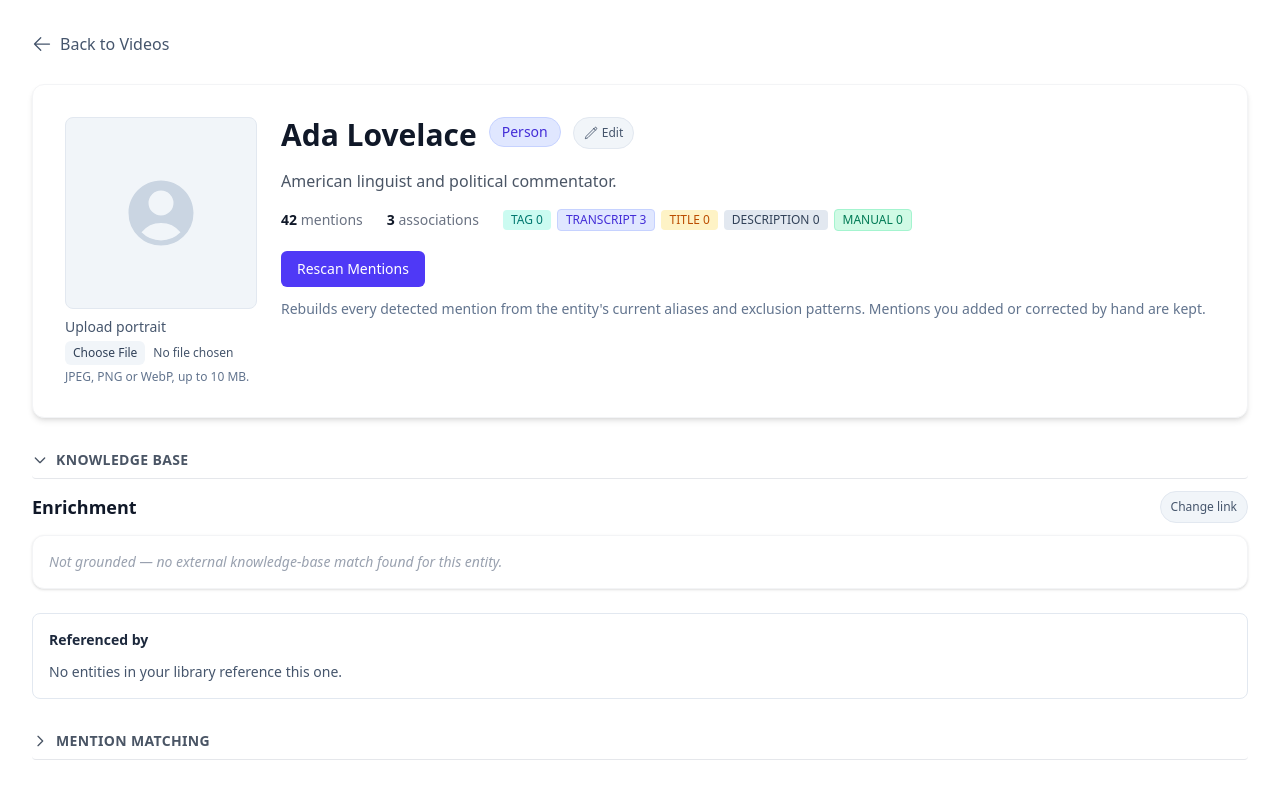
Test case: EntityDetailPage › Rescan Mentions button › success message uses role='status' for polite announcement
Click the button "Rescan Mentions": click(353, 269) [281,251,425,287]
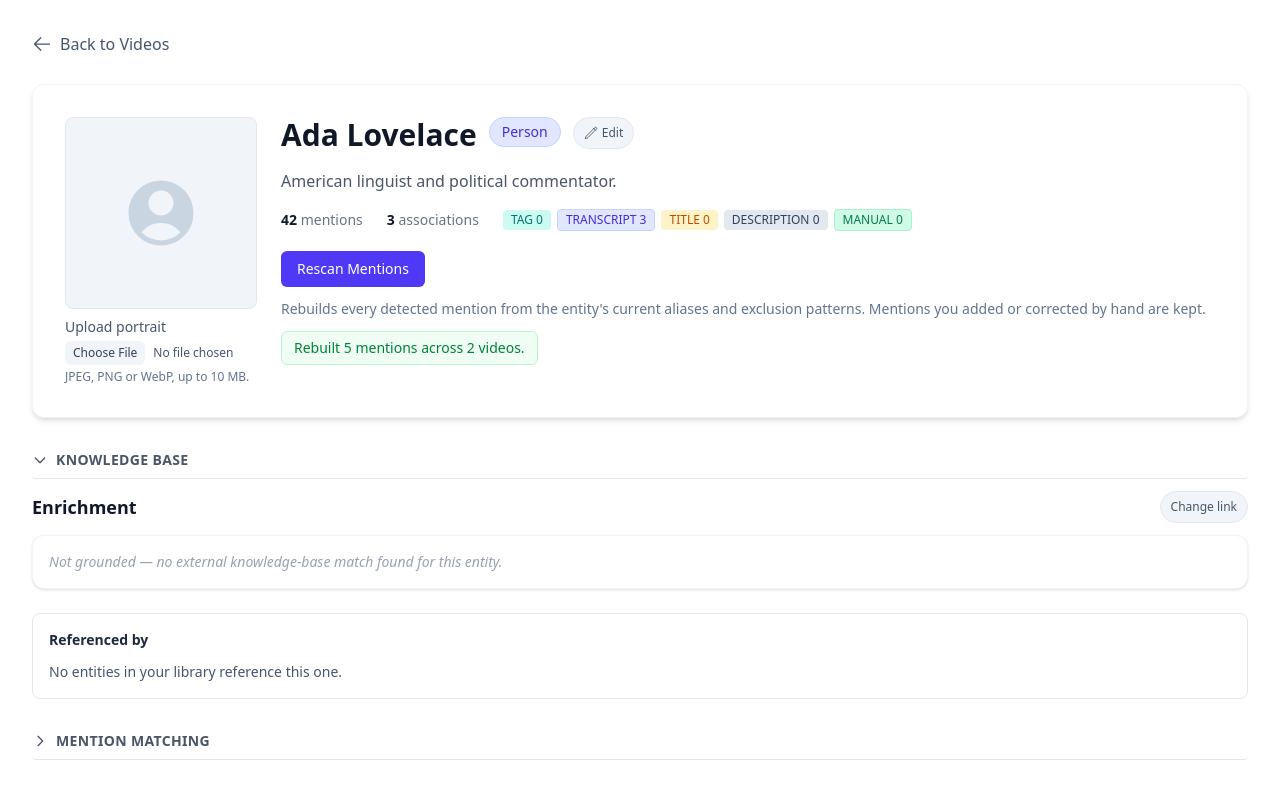
Expected: the message "Rebuilt 5 mentions across 2 videos." is shown, [281,331,538,365]
